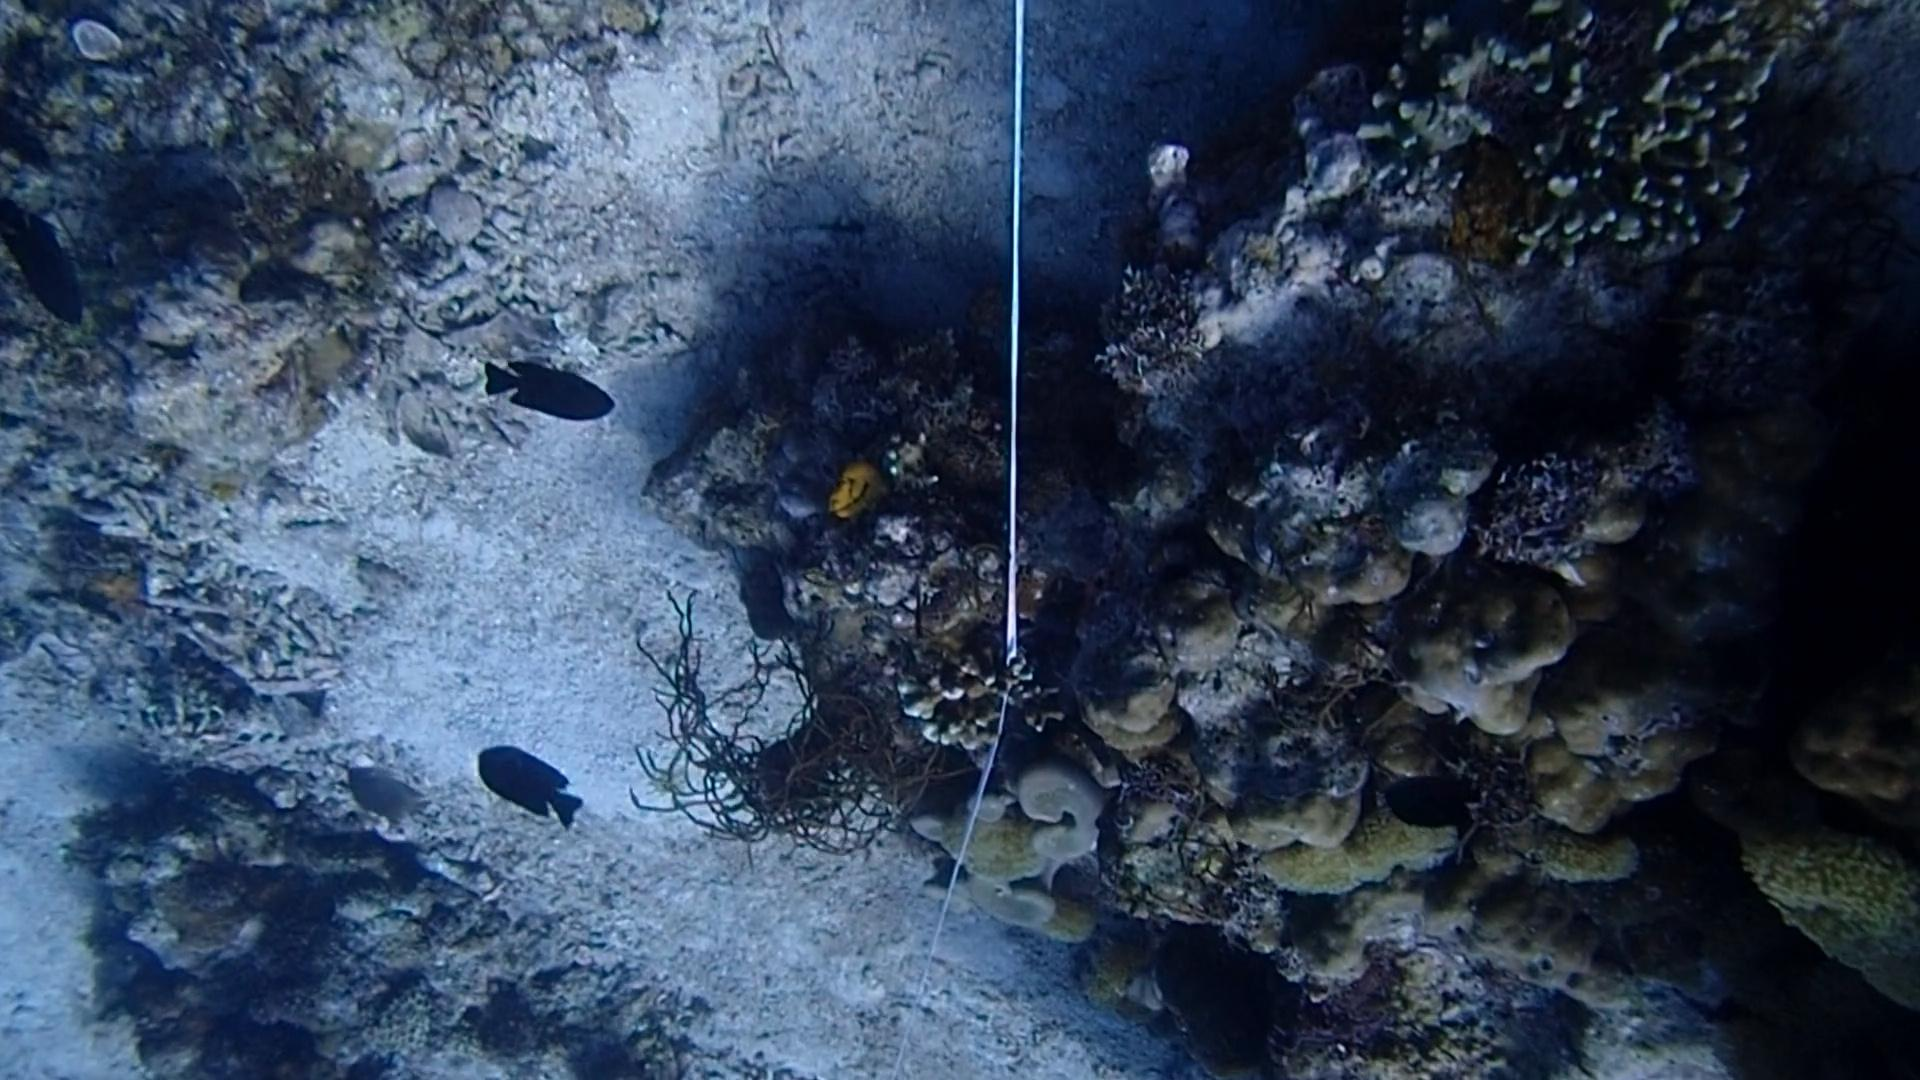Dark Fish: (472, 339, 630, 447), (477, 733, 589, 847), (0, 204, 95, 336)
Light Fish: (324, 752, 438, 832)
